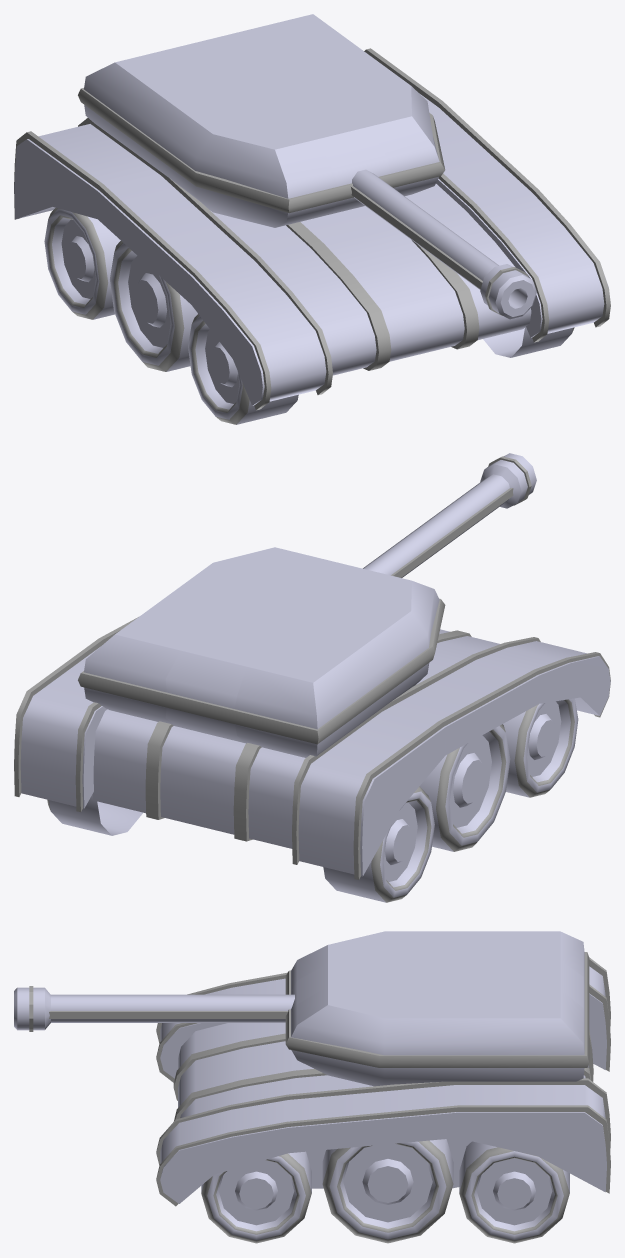
File: TankMaya1.fbx
The picture shows the model from 3 angles, top to bottom: view 1: azimuth 30°, elevation 25°; view 2: azimuth 150°, elevation 25°; view 3: azimuth 270°, elevation 25°; orthographic projection. The views are drawn at different scales.
Parts seen in each view (by area): view 1: pCube5, pCube16, pCube2, pCube15, wheel_m_r, wheel_b_r, pCylinder6, pCube10, wheel_f_r, pCube18, pCube17, pCube12 (+5 smaller); view 2: pCube5, pCube16, pCube2, pCube15, wheel_m_r, pCube10, wheel_b_r, wheel_f_r, pCylinder6, pCube18, pCube14, wheel_b_l (+5 smaller); view 3: pCube5, pCube15, wheel_m_l, pCube2, wheel_b_l, wheel_f_l, pCylinder6, pCube10, pCube17, pCube16, pCube13, pCube6 (+4 smaller).
Part boxes in pixels (box(x1,y1,x2,y2)): pCube5: box(84, 14, 439, 227); pCube16: box(14, 124, 326, 405); pCube2: box(210, 184, 531, 375); pCube15: box(419, 93, 608, 337); wheel_m_r: box(110, 241, 197, 371); wheel_b_r: box(44, 207, 120, 319); pCylinder6: box(352, 169, 536, 319); pCube10: box(78, 88, 445, 213); wheel_f_r: box(188, 314, 298, 424); pCube18: box(14, 131, 271, 410); pCube17: box(364, 48, 610, 327); pCube12: box(286, 222, 391, 370); pCube5: box(84, 547, 439, 757); pCube16: box(298, 641, 610, 876); pCube2: box(93, 629, 500, 848); pCube15: box(20, 646, 107, 808); wheel_m_r: box(420, 724, 510, 851); pCube10: box(78, 598, 445, 744); wheel_b_r: box(323, 786, 434, 902); wheel_f_r: box(503, 698, 578, 797); pCylinder6: box(363, 453, 536, 577); pCube18: box(353, 652, 610, 879); pCube14: box(292, 637, 540, 864); wheel_b_l: box(47, 794, 142, 835); pCube5: box(291, 931, 584, 1086); pCube15: box(160, 1085, 606, 1203); wheel_m_l: box(322, 1139, 453, 1243); pCube2: box(178, 1023, 588, 1188); wheel_b_l: box(459, 1141, 569, 1243); wheel_f_l: box(201, 1151, 311, 1243); pCylinder6: box(14, 987, 294, 1030); pCube10: box(285, 952, 589, 1067); pCube17: box(156, 1105, 610, 1206); pCube16: box(160, 966, 606, 1078); pCube13: box(156, 1078, 610, 1165); pCube6: box(49, 1011, 288, 1018).
Size of the model in its own units: 366 by 221 by 604.
